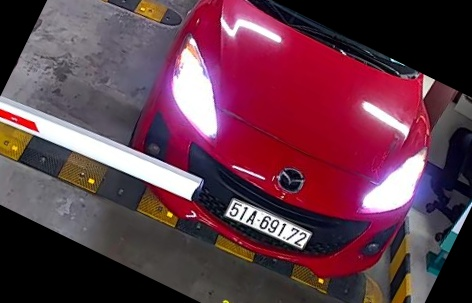plate: (225, 198, 317, 249)
